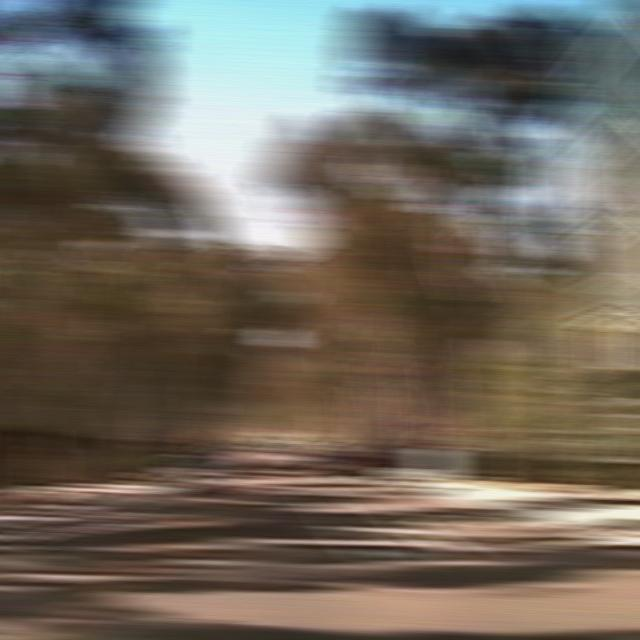stop_sign: (410, 411, 443, 432)
